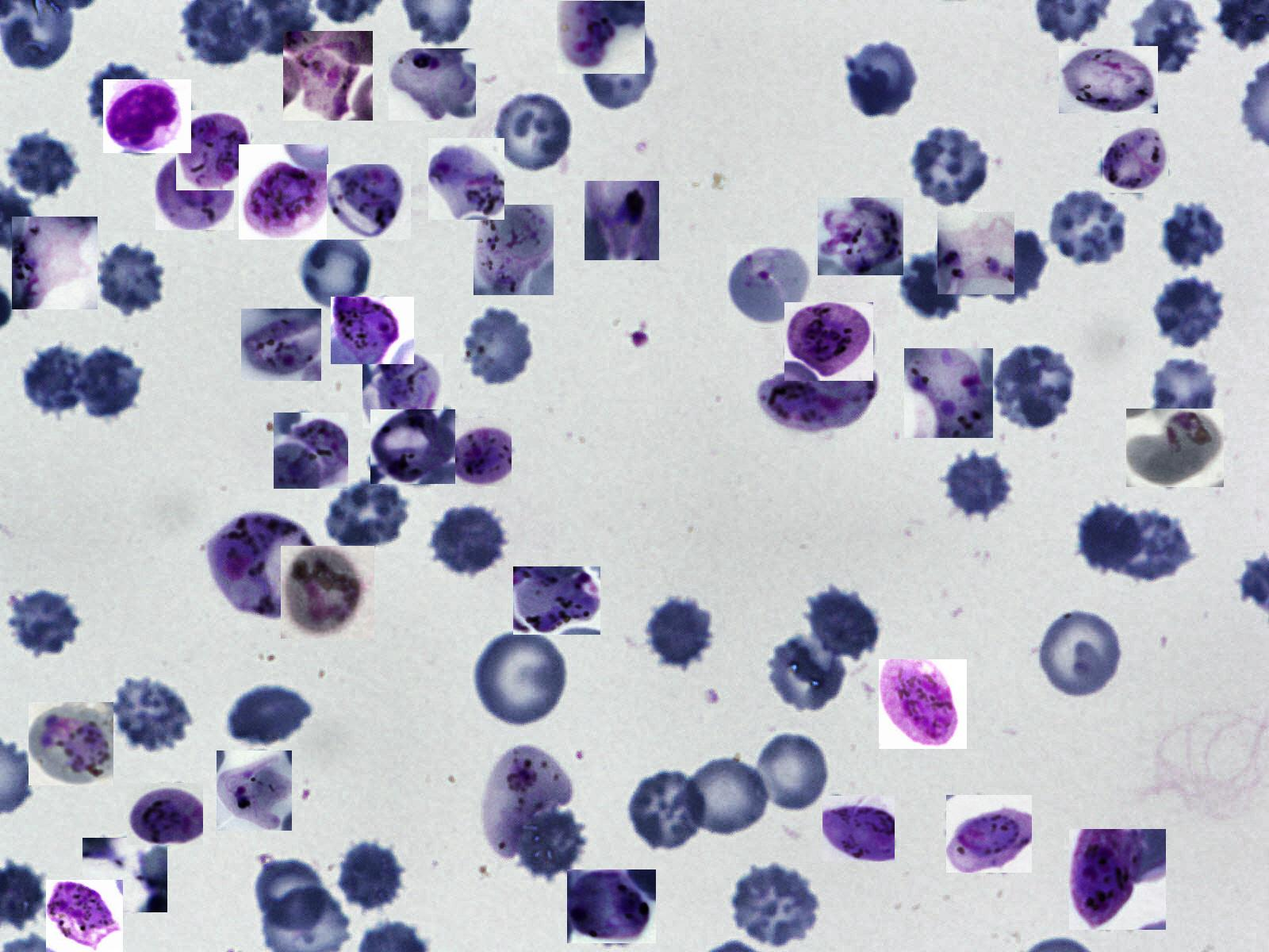Infected: (206, 510, 315, 616), (756, 341, 878, 432), (481, 744, 573, 863), (1069, 829, 1166, 930), (281, 546, 374, 639), (239, 144, 328, 240), (284, 31, 374, 121), (904, 348, 993, 438), (879, 660, 967, 750), (12, 217, 98, 309), (1126, 409, 1224, 487), (727, 244, 815, 328), (473, 205, 554, 295), (784, 302, 873, 381), (29, 702, 113, 785), (946, 795, 1032, 873), (1059, 46, 1158, 113), (567, 869, 656, 943), (818, 198, 903, 275), (103, 79, 191, 153), (557, 1, 645, 74), (327, 164, 411, 240), (370, 409, 455, 484), (389, 48, 476, 121), (937, 212, 1014, 294), (82, 838, 167, 912), (428, 138, 504, 220), (155, 152, 234, 230), (217, 750, 292, 831), (513, 566, 600, 635), (176, 110, 251, 190), (362, 354, 443, 428), (585, 181, 659, 260), (241, 309, 321, 381), (274, 413, 348, 489), (331, 297, 414, 364), (46, 880, 123, 952), (822, 796, 895, 862), (127, 783, 203, 845), (447, 418, 512, 486), (1102, 128, 1168, 193)
Uninfected: (471, 629, 568, 730), (1036, 606, 1127, 701), (677, 754, 772, 839), (729, 862, 822, 946), (992, 343, 1079, 429), (493, 89, 577, 173), (911, 125, 994, 209), (625, 770, 711, 851), (107, 675, 195, 754), (1045, 188, 1131, 268), (753, 728, 832, 815), (324, 477, 414, 551), (579, 24, 657, 109), (768, 631, 848, 712), (805, 583, 881, 662), (229, 679, 316, 748), (428, 501, 508, 576), (1, 585, 82, 659), (1114, 506, 1190, 583), (1151, 270, 1229, 345), (461, 307, 534, 387), (93, 240, 169, 315), (844, 40, 918, 117), (642, 593, 716, 670), (1152, 357, 1216, 445), (68, 347, 145, 420), (976, 225, 1049, 302), (513, 804, 586, 880), (300, 232, 372, 309), (941, 447, 1014, 520), (21, 344, 93, 417), (335, 839, 404, 915), (7, 130, 82, 198), (255, 858, 325, 927), (1075, 504, 1144, 574), (1160, 202, 1226, 274), (85, 61, 153, 130), (901, 251, 964, 319)
